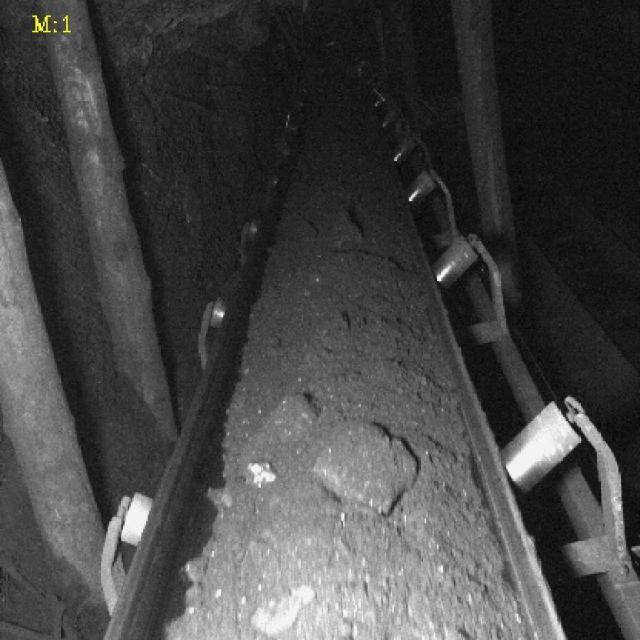large_sized_coal: (314, 423, 415, 515)
